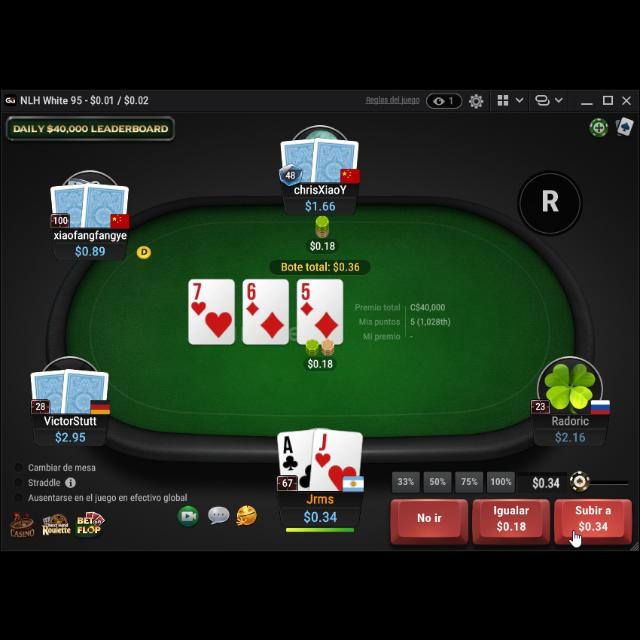5d: (298, 278, 316, 316), (298, 277, 316, 315)
6d: (245, 279, 261, 315)
7h: (190, 279, 207, 315)
Ac: (281, 432, 301, 471)
Jh: (314, 429, 332, 467)
bet_text: (306, 354, 334, 368), (310, 237, 336, 251)
card_back: (61, 362, 111, 412), (311, 132, 361, 182), (80, 178, 130, 228), (48, 178, 92, 226), (278, 134, 322, 180), (30, 364, 70, 412)
dealer: (134, 242, 154, 258)
hero_active: (389, 493, 637, 543)
pot_text: (280, 259, 362, 271)
stack_text: (302, 504, 338, 522), (304, 196, 336, 210), (554, 426, 586, 440), (74, 241, 106, 255), (54, 426, 86, 439)
